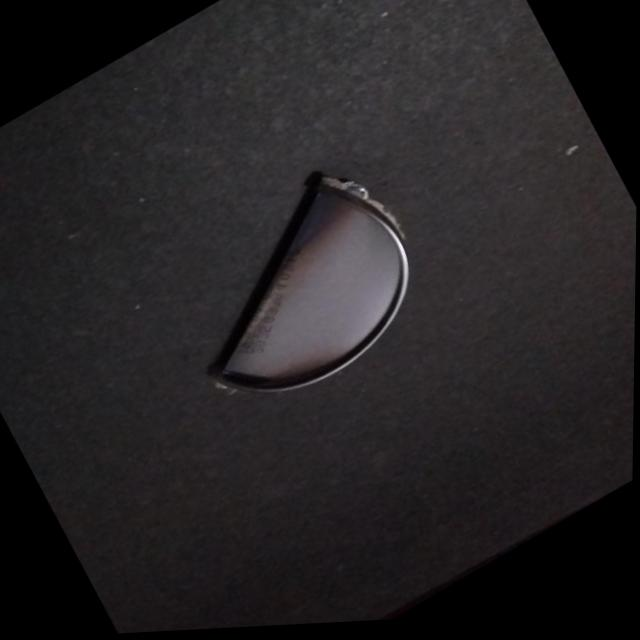metal: (223, 172, 408, 389)
